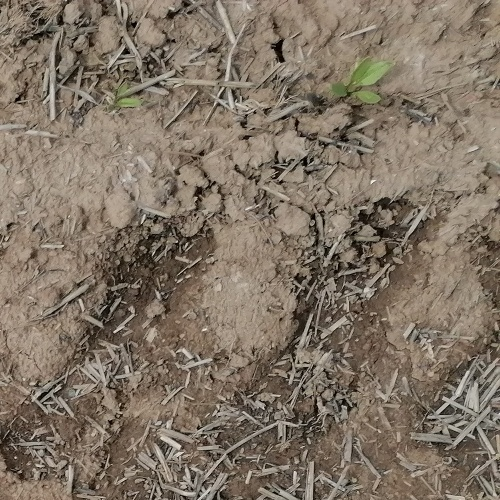beet: (333, 54, 390, 105), (106, 82, 143, 109)
